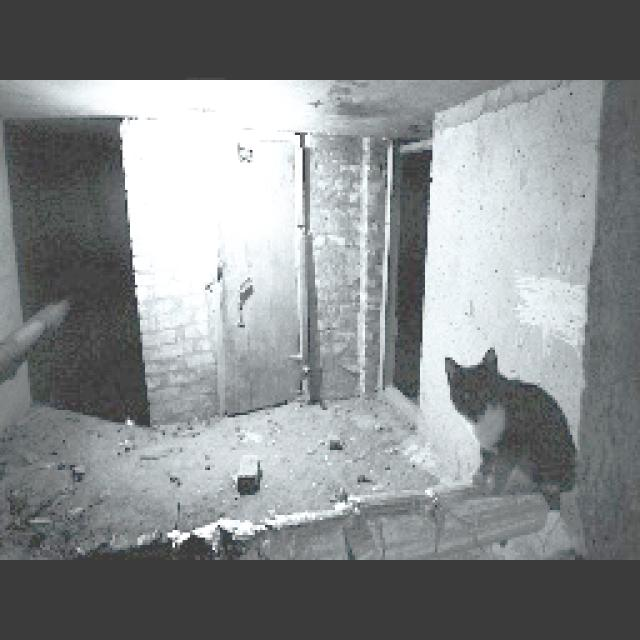cat: (442, 344, 586, 514)
